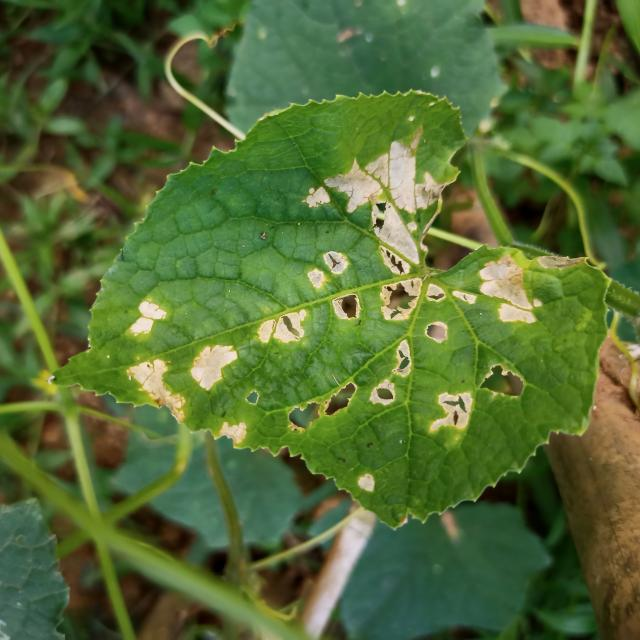disease_cucumber: (302, 139, 548, 435), (120, 284, 301, 458), (351, 460, 383, 501)
